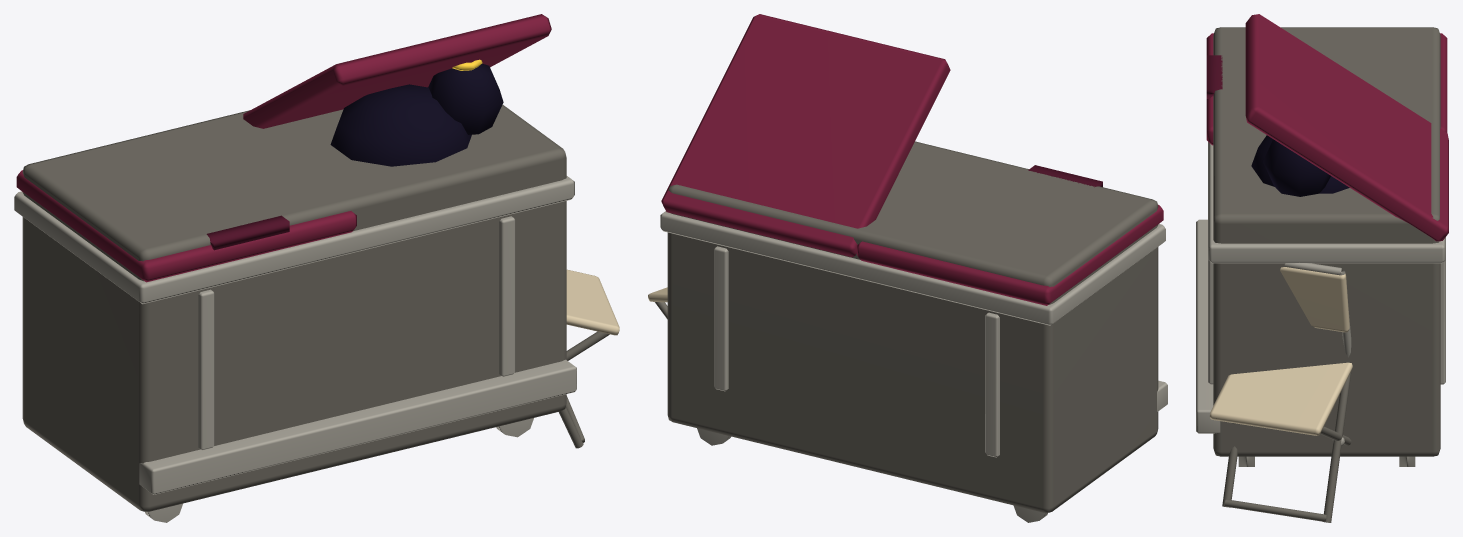
File: dumpster.glb
3 renders of one model, left to right at view 1: azimuth 30°, elevation 25°; view 2: azimuth 150°, elevation 25°; view 3: azimuth 270°, elevation 25°, orthographic. The views are drawn at different scales.
Parts seen in each view (by area): view 1: Dumpster.001; view 2: Dumpster.001; view 3: Dumpster.001.
Boxes of the visible parts, box(x1,y1,x2,y2) form: Dumpster.001: box(14, 14, 619, 522); Dumpster.001: box(648, 14, 1167, 522); Dumpster.001: box(1196, 14, 1448, 522).
Size of the model in its own units: 2.06 by 1.62 by 0.946.
